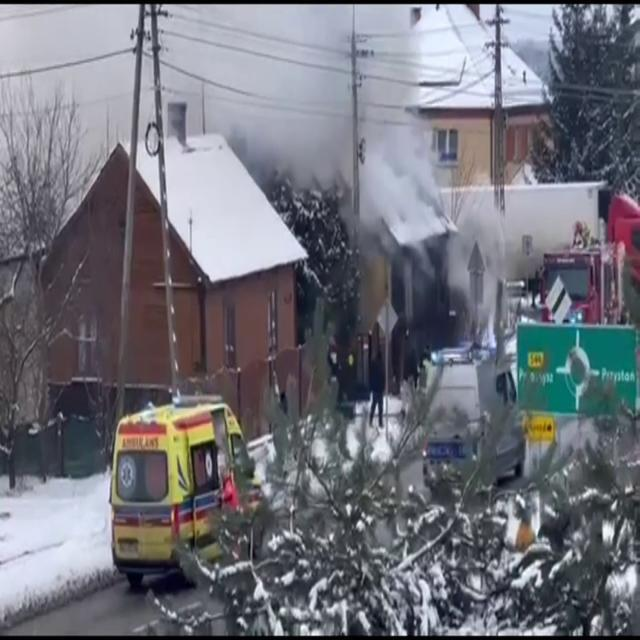Smoke: (238, 4, 450, 277), (452, 152, 600, 273)
